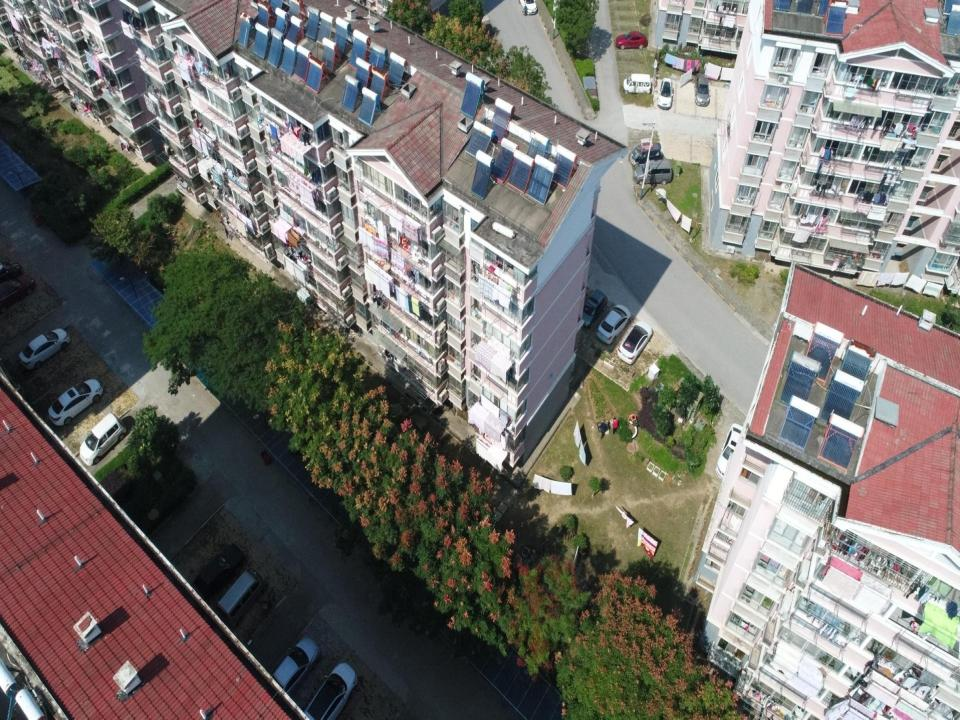car: (300, 662, 359, 719), (271, 636, 321, 696), (196, 542, 248, 596), (18, 328, 70, 371), (43, 379, 103, 414), (618, 312, 654, 366), (715, 424, 748, 480), (595, 304, 632, 346), (0, 273, 36, 314), (582, 288, 608, 330), (615, 29, 648, 50), (695, 72, 710, 106), (0, 260, 21, 282), (518, 0, 539, 15)
van: (225, 567, 267, 627), (634, 159, 677, 185), (631, 141, 662, 167), (624, 73, 652, 94), (658, 74, 674, 110)
